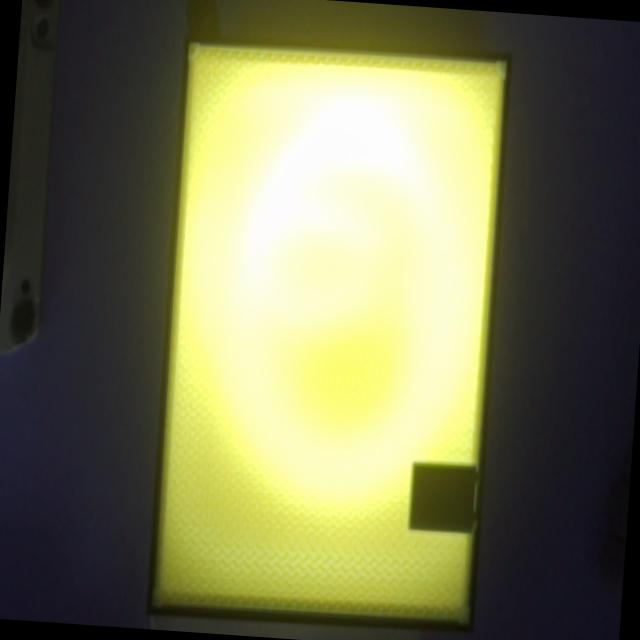bateria: (409, 461, 480, 534)
mesa: (145, 31, 512, 634)
